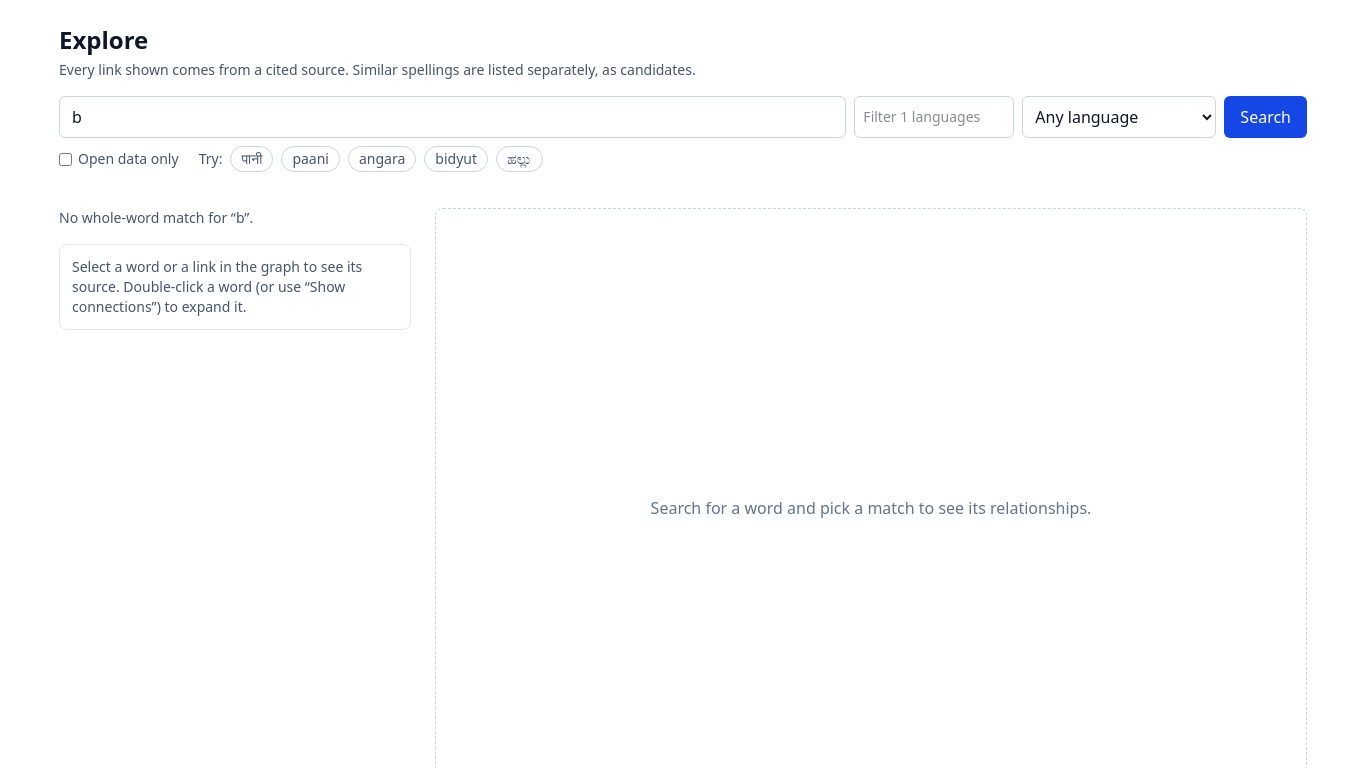
Test: ExplorePage follows the URL and drops stale data › follows changed props too, and a link to the query the props already hold
Later steps or results of the test are not shown.
Expected: the text "No whole-word match for “b”." is shown, [59,208,253,227]
Replace the text in the field named "word" with "c" at [453, 117], box [59,96,846,138]
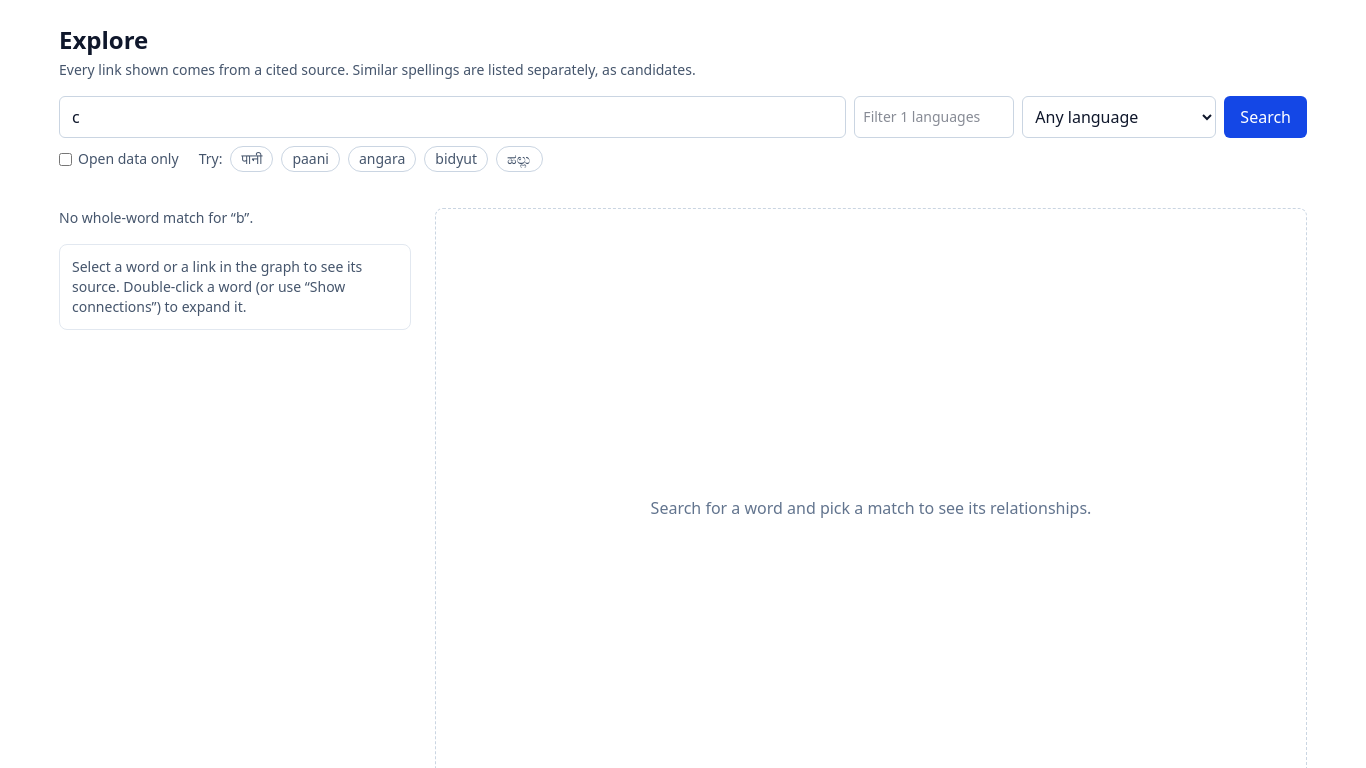
Click the button "Search".
click(1266, 117)  # box [1224,96,1307,138]
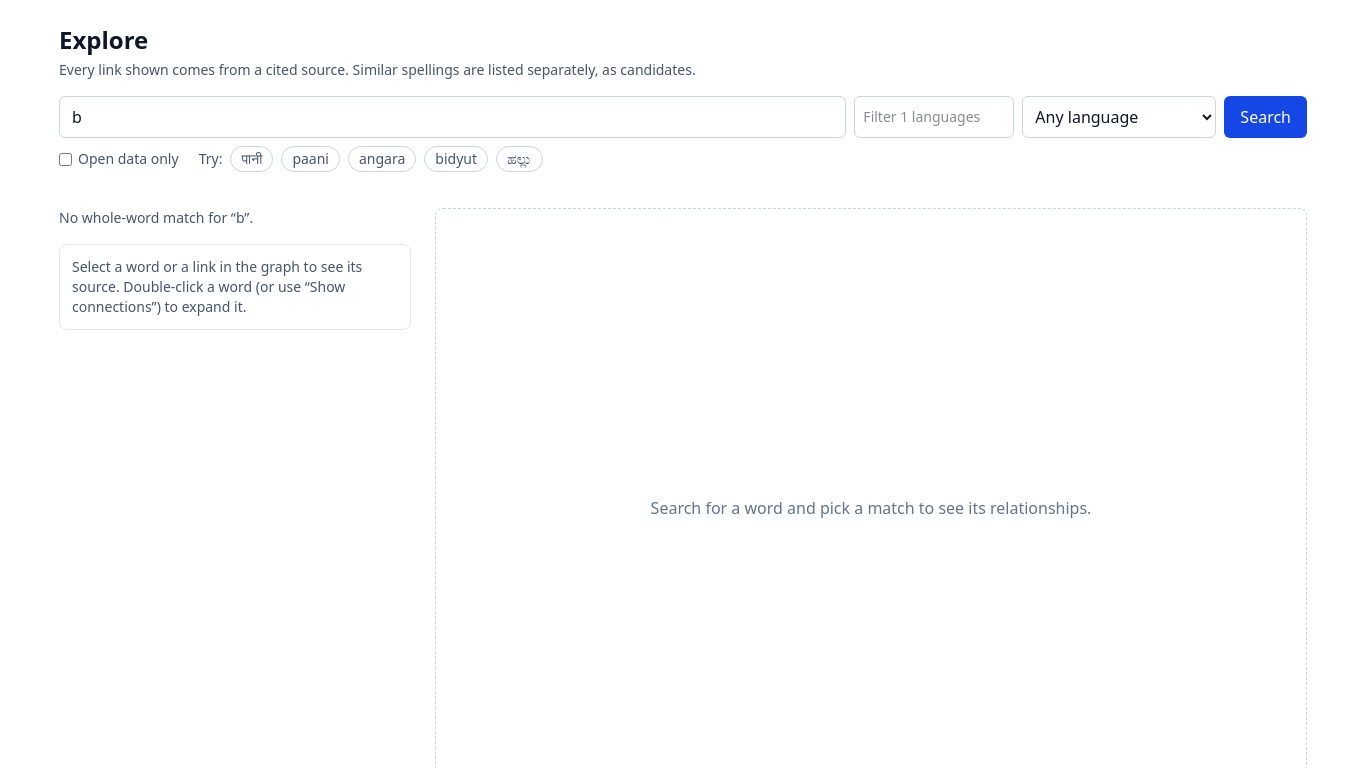
Expected: the text "No whole-word match for “b”." is shown, [59,208,253,227]
Expected: the field named "word" holds "b", [59,96,846,138]
